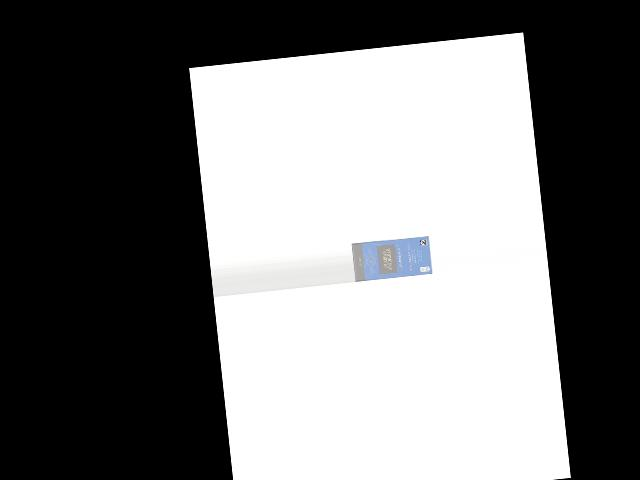chocolate: (351, 235, 431, 282)
